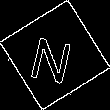N_N: (30, 26, 80, 84)
